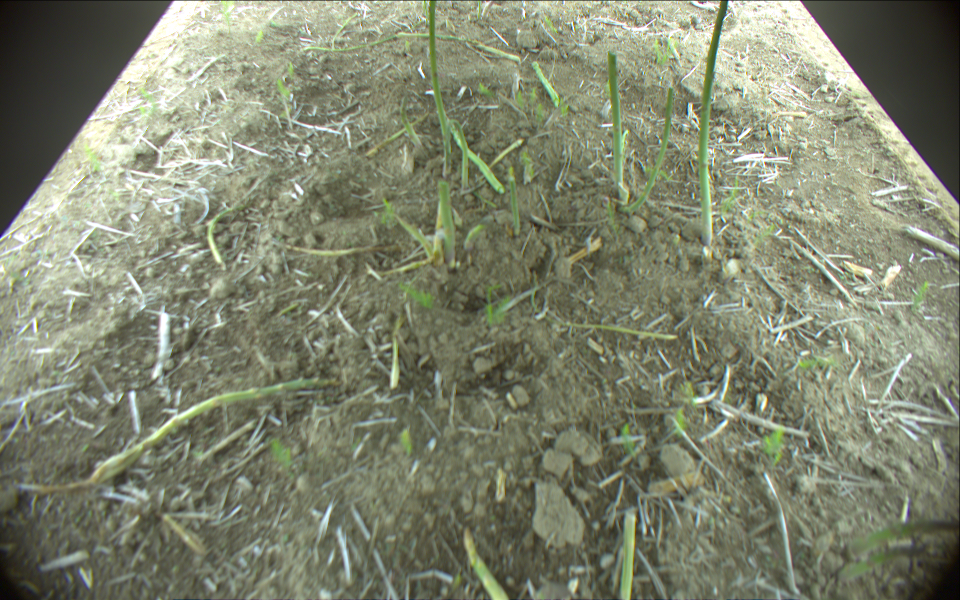aspa: (90, 377, 341, 482), (698, 1, 730, 246), (621, 85, 673, 213), (304, 33, 521, 61), (444, 117, 506, 192), (428, 1, 454, 178), (847, 517, 960, 552), (842, 544, 932, 585), (465, 528, 509, 600), (603, 49, 624, 189), (370, 111, 429, 155), (208, 199, 248, 263), (555, 322, 678, 339), (617, 511, 636, 600), (394, 212, 431, 256), (438, 179, 456, 267), (399, 97, 424, 153), (454, 116, 471, 189), (530, 61, 557, 105), (510, 173, 523, 239), (463, 221, 484, 253)
